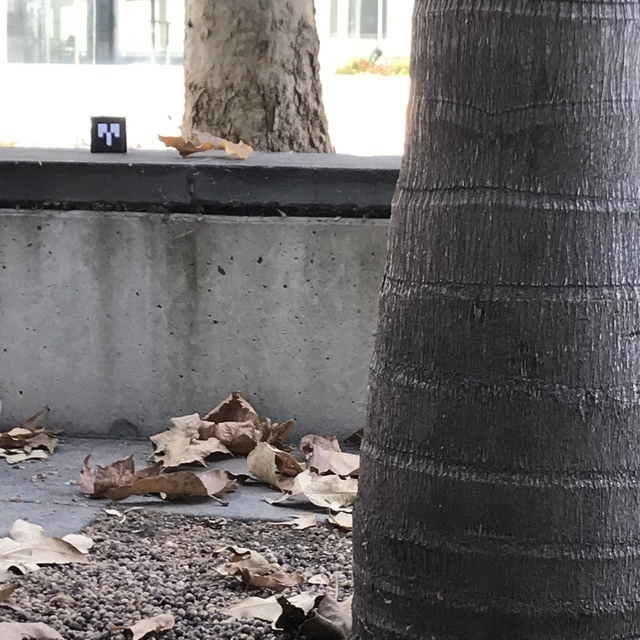ARTag: (89, 116, 127, 155)
